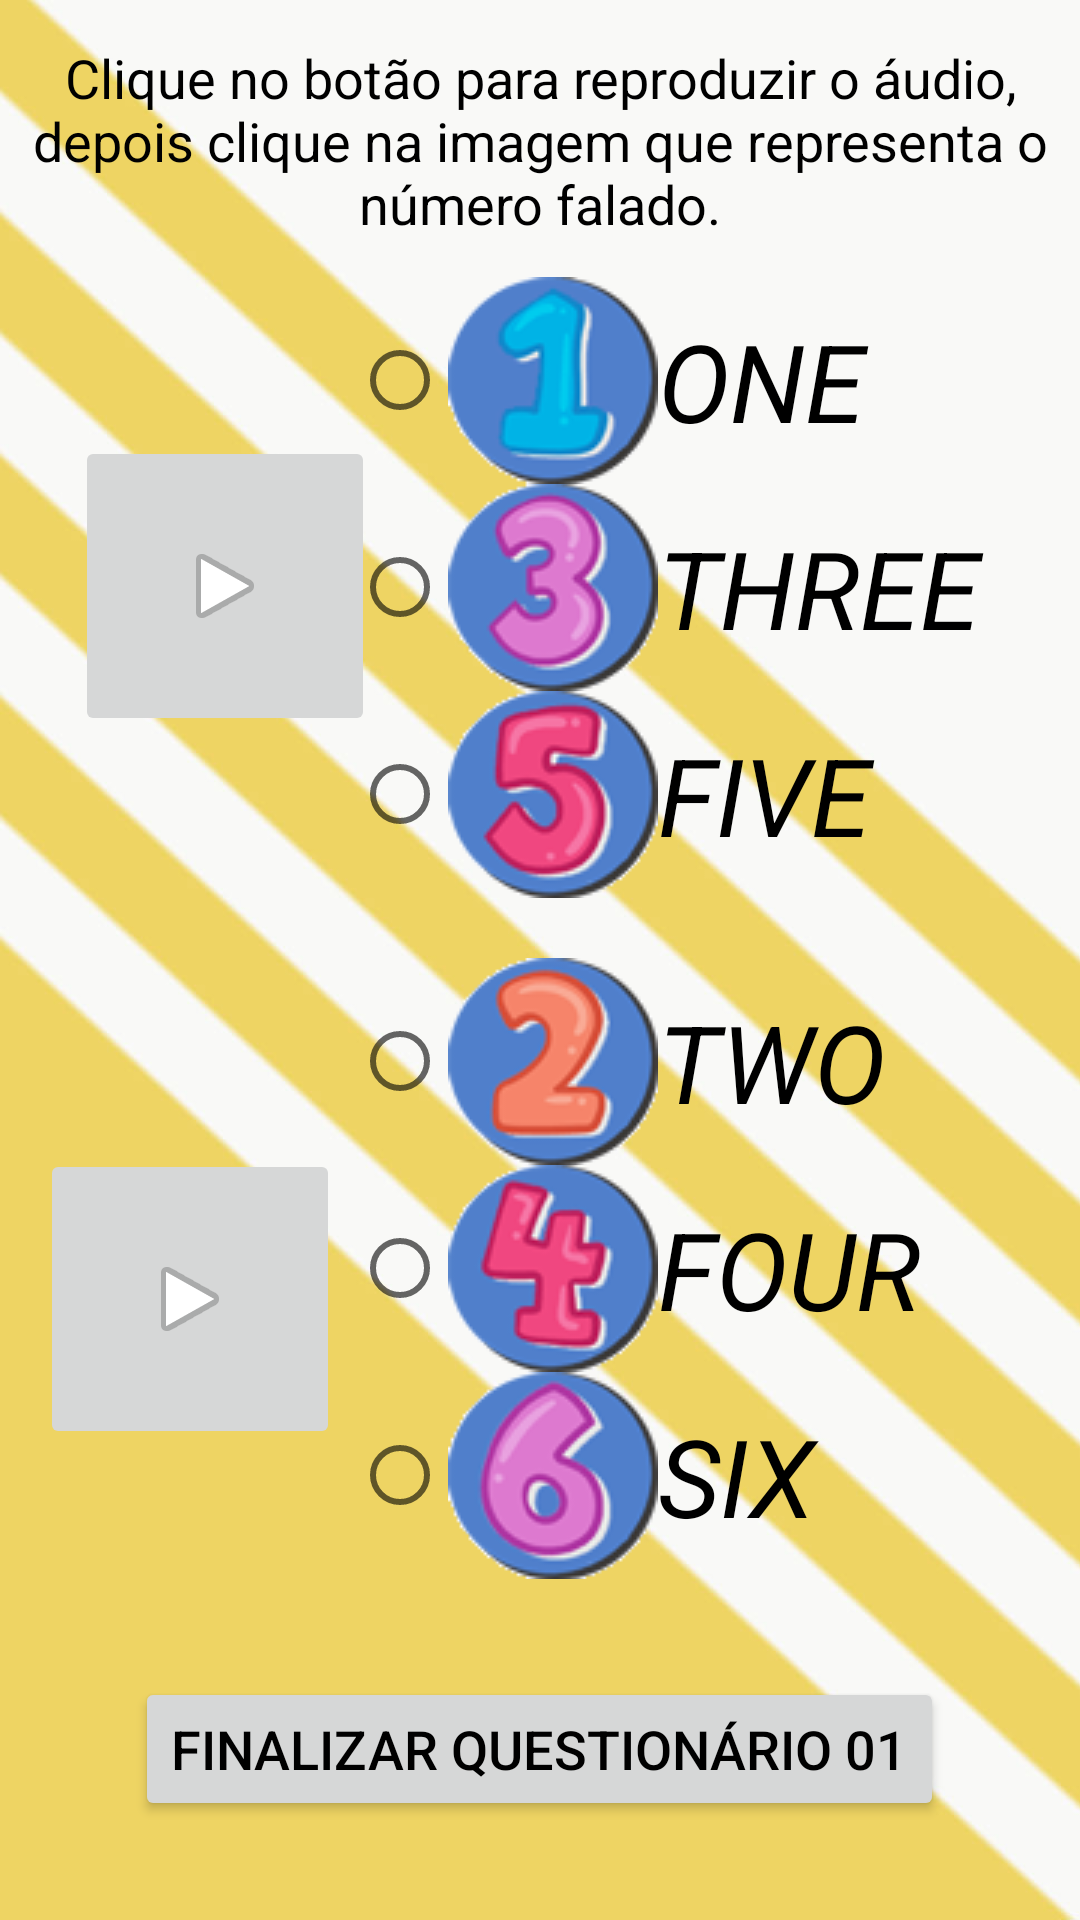

Icons on this 1080 x 1920 Android screen, each with the point to tap as point (x, y):
play: point (225, 586), point (196, 1290)
